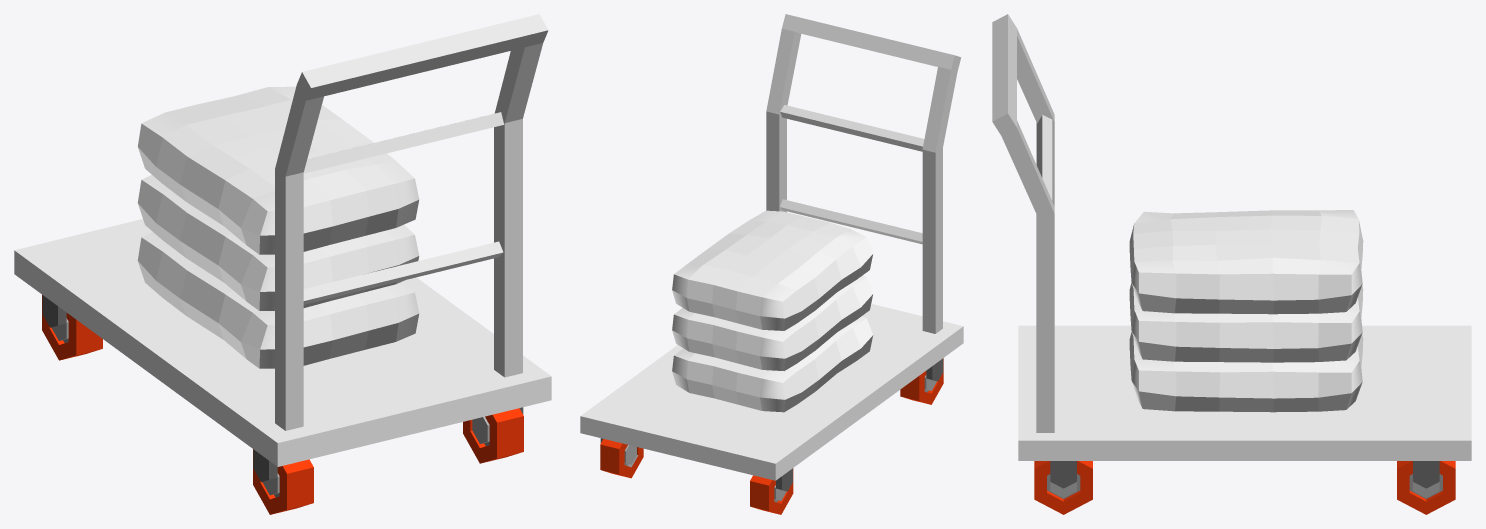
Rendered from ConcreteOnGurma2_3.fbx.
3 renders of one model, left to right at view 1: azimuth 30°, elevation 25°; view 2: azimuth 150°, elevation 25°; view 3: azimuth 270°, elevation 25°, orthographic. The views are drawn at different scales.
Parts seen in each view (by area): view 1: Cube.002; view 2: Cube.002; view 3: Cube.002.
Part boxes in pixels (<box>): Cube.002: <box>14,14,551,514</box>; Cube.002: <box>580,14,963,514</box>; Cube.002: <box>992,14,1471,514</box>.
Bounding box in the file's own units: 60 × 97.71 × 106.
